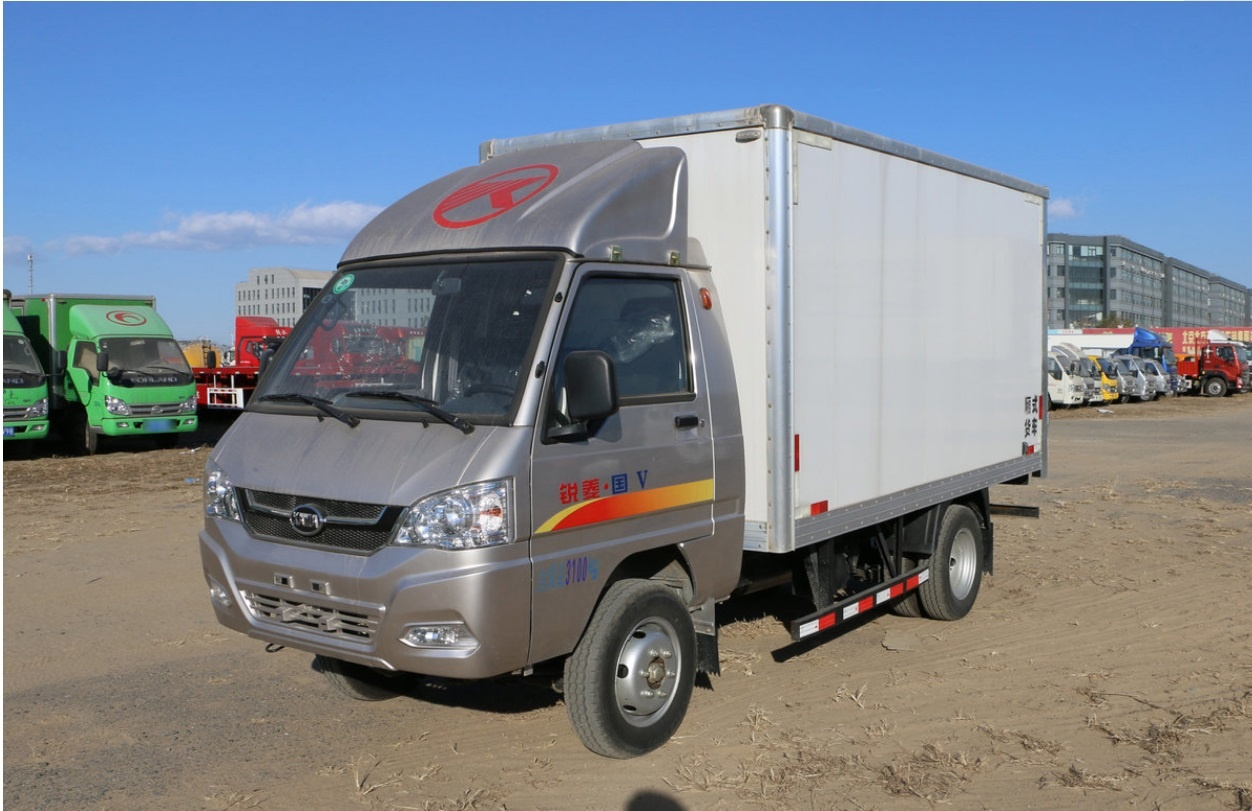truck: (205, 103, 1063, 758)
